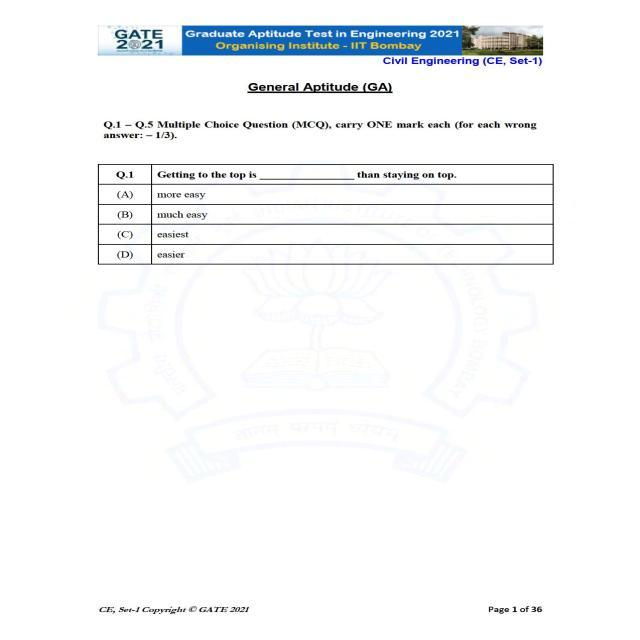Answer_Block: (98, 186, 554, 264)
Question_Answer_Block: (96, 163, 554, 264)
Question_Block: (97, 163, 552, 183)
Question_Paper_Area: (85, 78, 553, 264)
